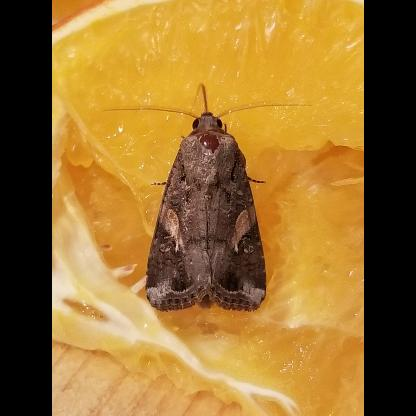Fall Armyworm Moth: (100, 79, 316, 315)
